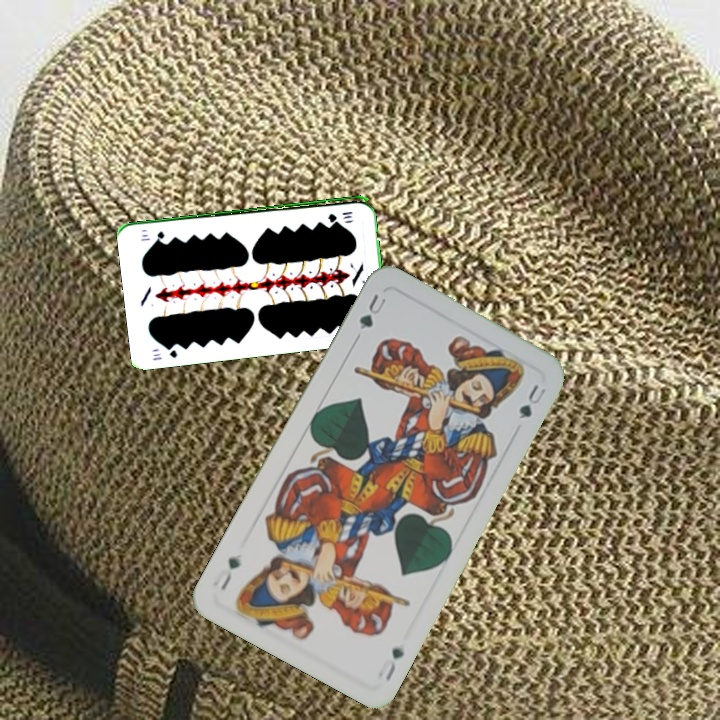G10: (149, 342, 180, 363), (323, 208, 355, 222)
GU: (355, 290, 389, 332), (374, 643, 407, 685)
